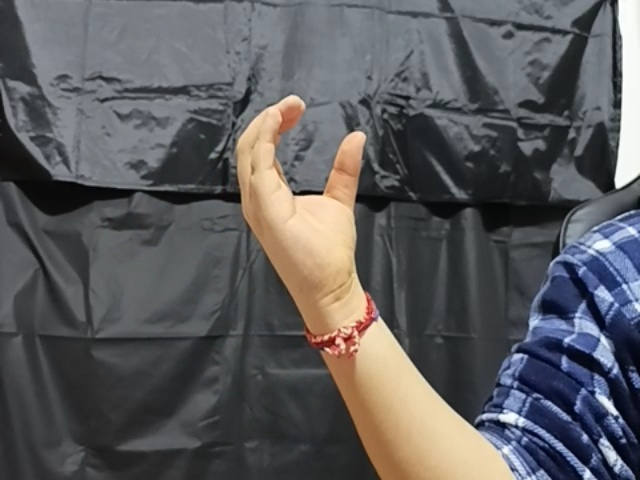C: (231, 98, 370, 305)
